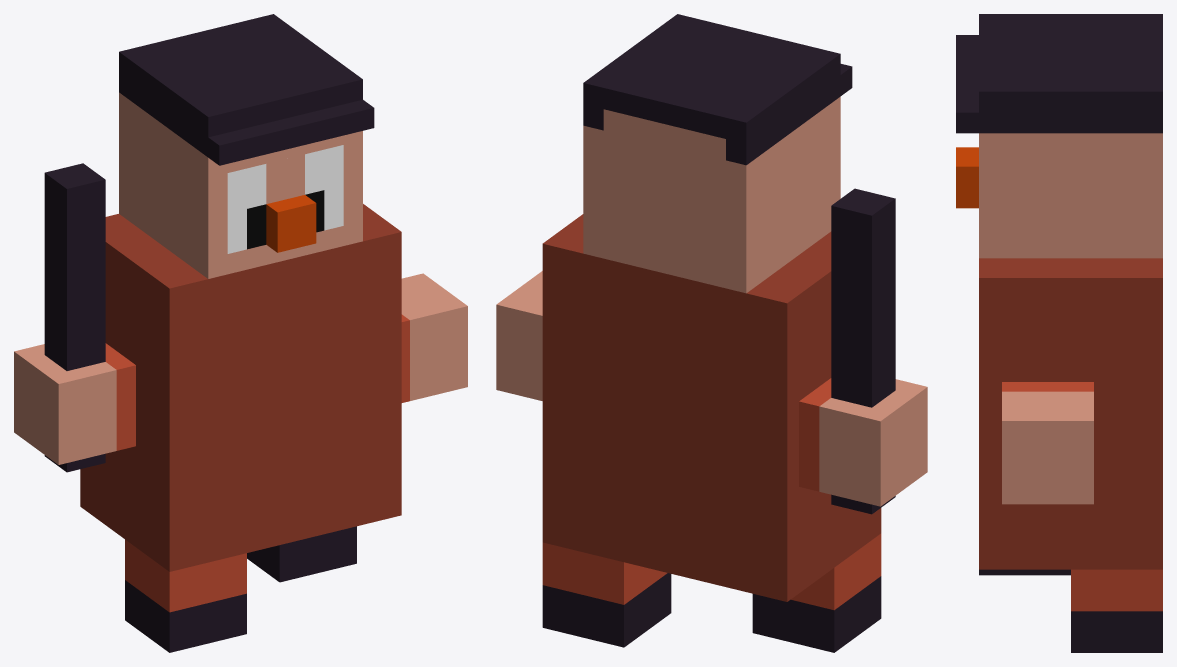
The model's file is Enemy_Run_2.glb.
The picture shows the model from 3 angles, left to right: view 1: azimuth 30°, elevation 25°; view 2: azimuth 150°, elevation 25°; view 3: azimuth 270°, elevation 25°; orthographic projection. The views are drawn at different scales.
Parts seen in each view (by area): view 1: pl0; view 2: pl0; view 3: pl0.
Part boxes in pixels (box(x1,y1,x2,y2)): pl0: box(14, 14, 467, 652); pl0: box(496, 14, 927, 652); pl0: box(956, 14, 1162, 652).
Bounding box in the file's own units: 2 × 2.6 × 0.9.
1 material, 1 textured.
